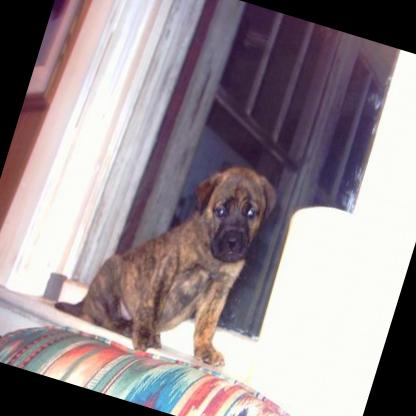bull_mastiff: (45, 120, 287, 378)
